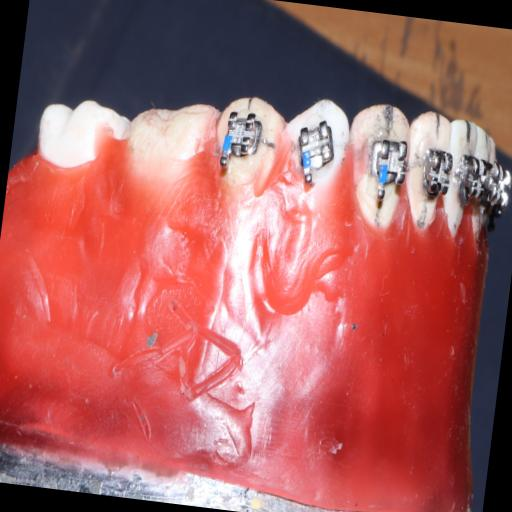correct_brace: (274, 95, 354, 210)
incorrect_brace: (292, 120, 337, 170)
